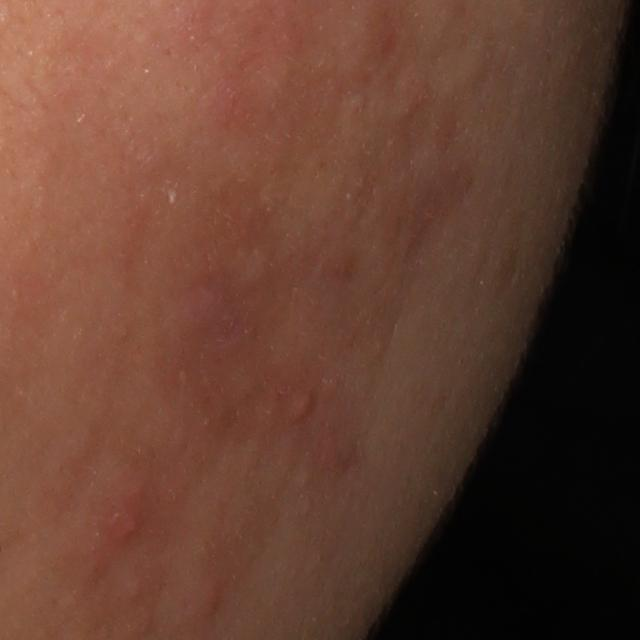papule: (190, 572, 229, 627), (110, 490, 146, 545), (287, 387, 319, 424)
